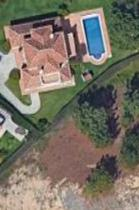pool: (81, 13, 107, 61)
